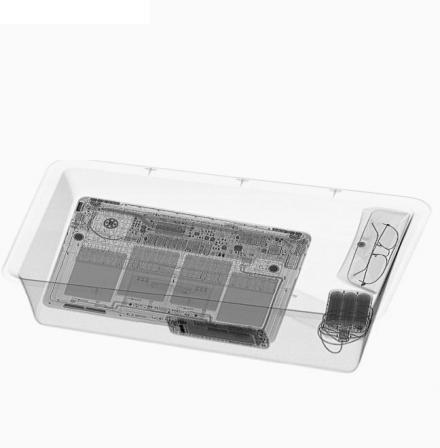Powerbank: (318, 288, 375, 343)
